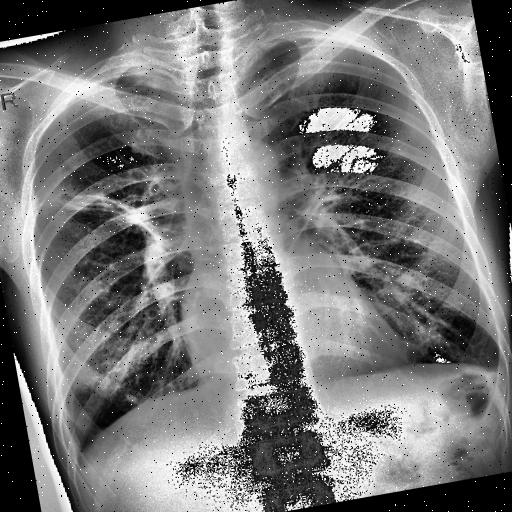10- Pleural effusion: (56, 428, 96, 479), (472, 354, 512, 388), (482, 352, 512, 390), (64, 436, 90, 468)
11- Pleural thickening: (56, 428, 96, 479), (472, 354, 512, 388), (482, 352, 512, 390), (64, 436, 90, 468)
13- Pulmonary fibrosis: (68, 172, 188, 314), (45, 174, 160, 258), (46, 174, 157, 255), (276, 164, 360, 252), (287, 154, 353, 230)
8- Nodule-Mass: (122, 392, 138, 404)
